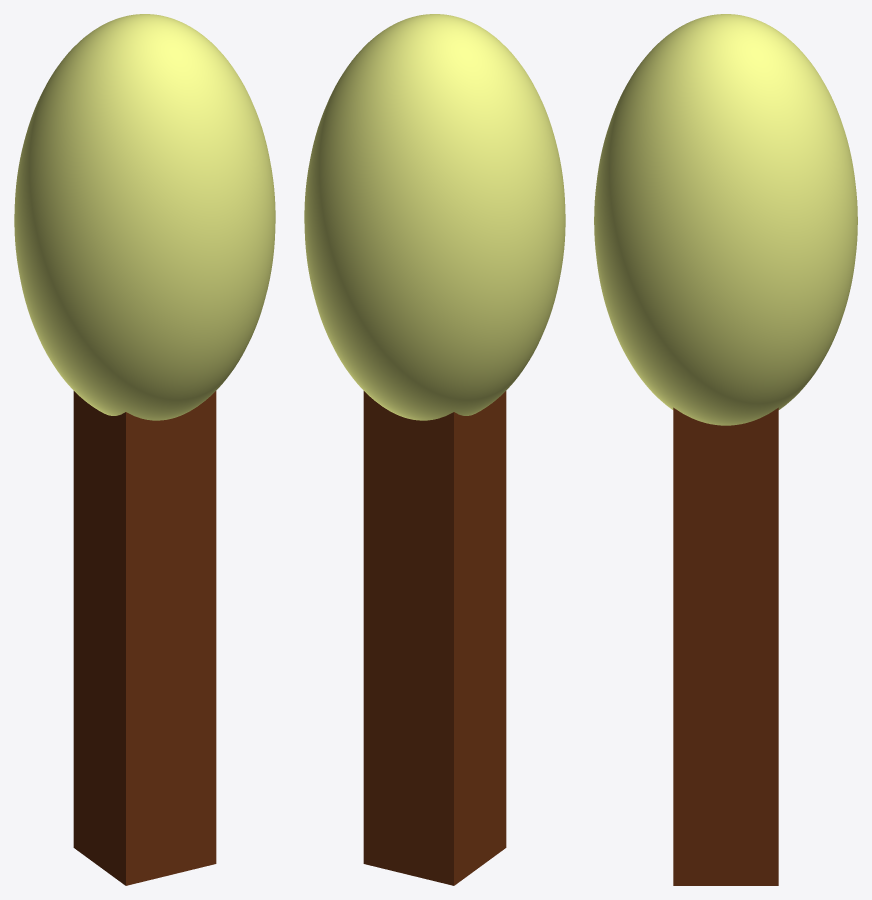
The picture shows the model from 3 angles, left to right: view 1: azimuth 30°, elevation 25°; view 2: azimuth 150°, elevation 25°; view 3: azimuth 270°, elevation 25°; orthographic projection.
Visible parts, largest first — view 1: Sphere, Cube; view 2: Sphere, Cube; view 3: Sphere, Cube.
Boxes of the visible parts, x1,y1,x2,y2 form: Sphere: (14, 14, 275, 420); Cube: (73, 391, 216, 885); Sphere: (304, 14, 565, 420); Cube: (363, 391, 506, 885); Sphere: (594, 14, 857, 425); Cube: (673, 407, 778, 885).
Size of the model in its own units: 0.3 by 1.06 by 0.3.
